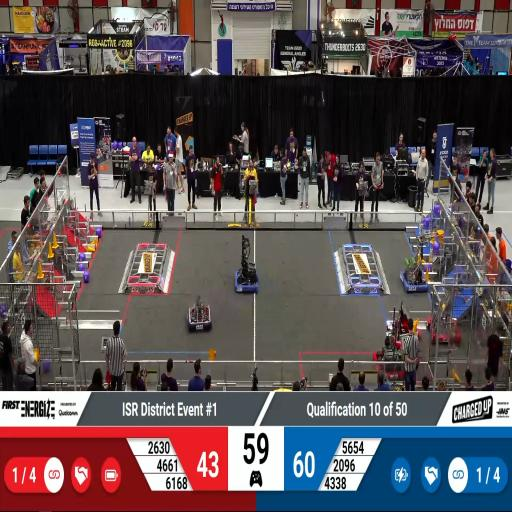robot: (426, 306, 462, 344), (398, 253, 430, 294), (234, 248, 260, 297), (371, 347, 407, 381), (390, 309, 418, 350), (187, 296, 213, 335)
